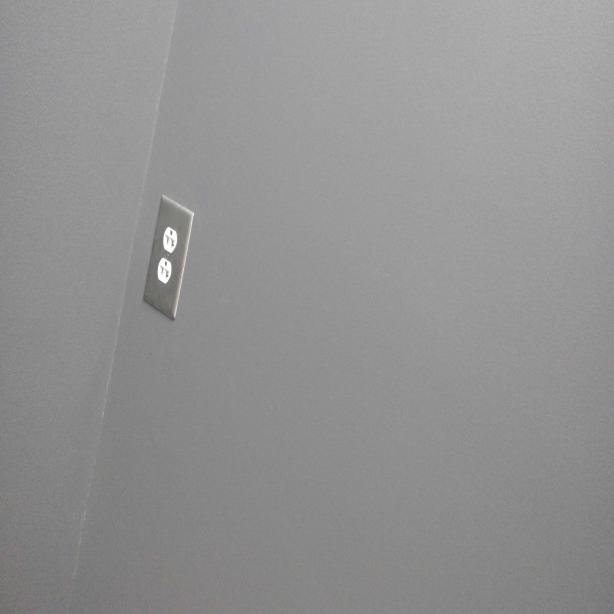typeb: (163, 225, 177, 251), (158, 257, 171, 285)
